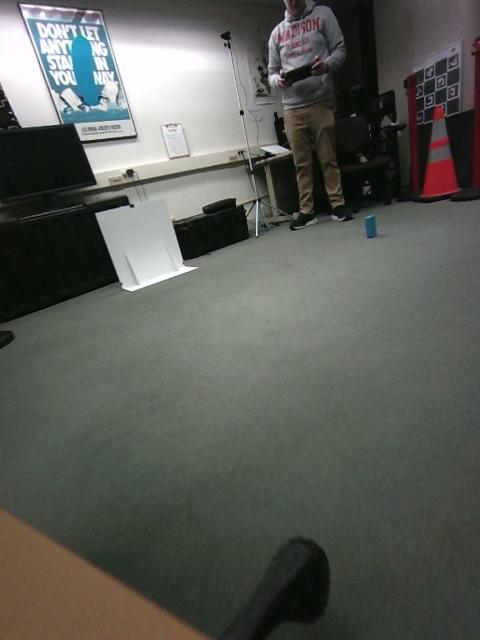block: (208, 308, 262, 377)
